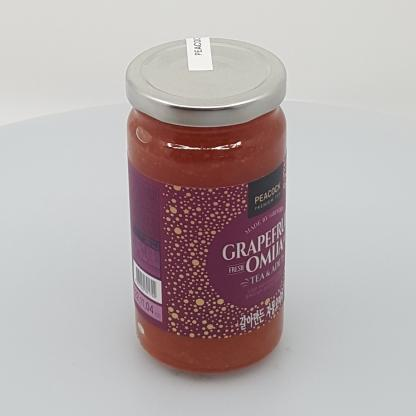---------------400G: (125, 36, 287, 375)
